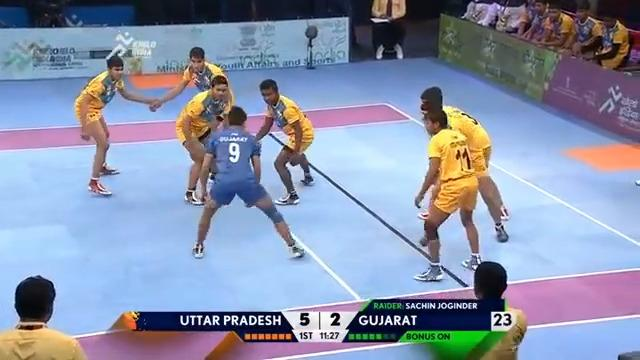Player: (415, 85, 510, 245), (71, 49, 158, 198), (413, 110, 476, 289), (252, 76, 317, 206), (196, 75, 231, 135), (184, 43, 221, 92)
Raider: (189, 104, 306, 263)
referee: (0, 274, 88, 359), (462, 260, 527, 358)
